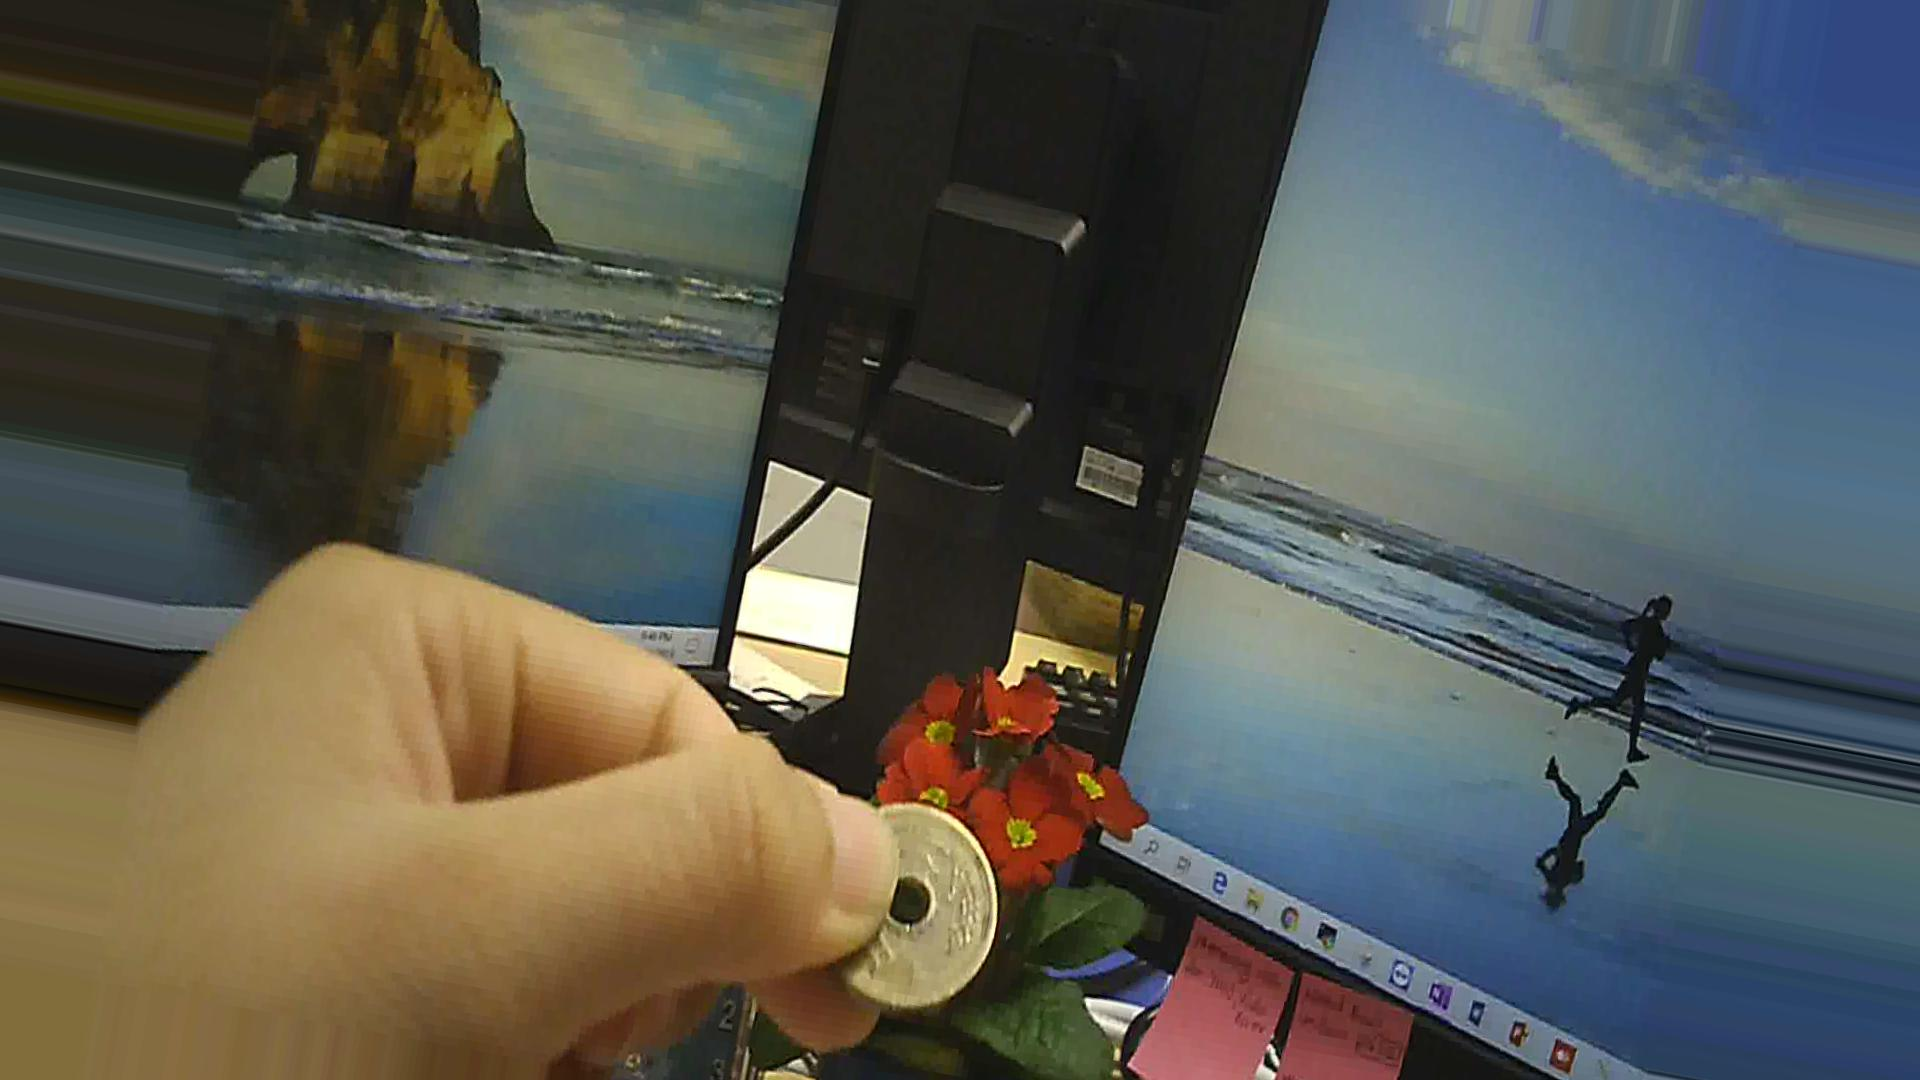5 Yen: (818, 803, 998, 996)
